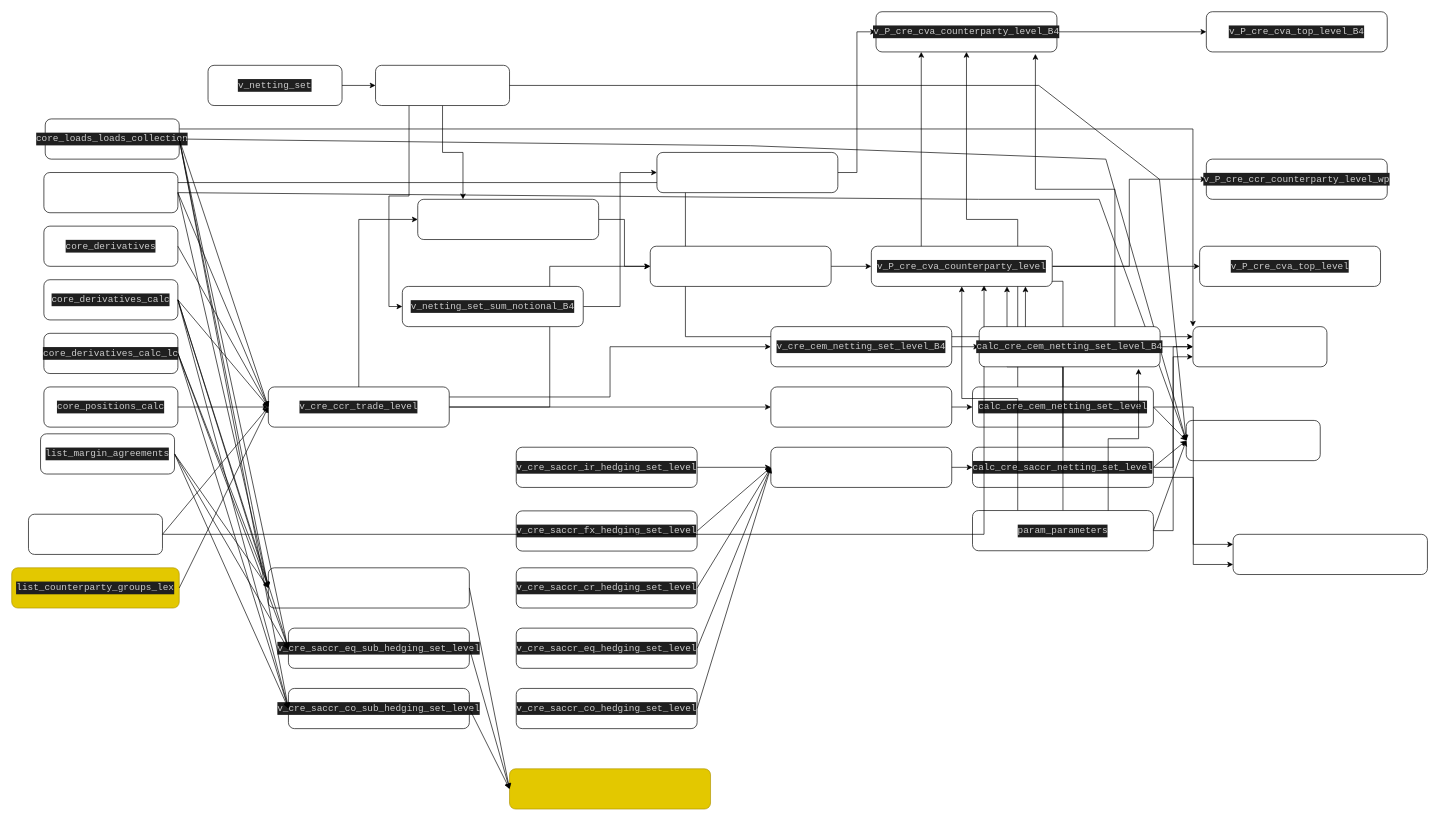
The diagram is 1443 pixels wide and 821 high, and some of its shapes have lost their labels. Each missing label, with the box of its shape:
calc_netting_sets: (375, 65, 510, 106)
core_positions: (43, 172, 178, 213)
list_counterparties: (28, 514, 162, 554)
v_cre_ccr_ead_distributed: (1186, 420, 1320, 461)
v_cre_ccr_ead_distributed_B4: (1192, 326, 1327, 367)
v_cre_cem_netting_set_level: (770, 386, 952, 427)
v_cre_cem_netting_set_level_B3_B4_wp: (1232, 534, 1427, 575)
v_cre_saccr_cr_sub_hedging_set_level: (268, 567, 469, 608)
v_cre_saccr_netting_set_level: (770, 447, 952, 487)
v_cre_saccr_subhedging_set_level: (509, 768, 711, 809)
v_netting_set_sum_notional: (417, 199, 599, 240)
v_P_cre_cva_netting_set_level: (650, 246, 831, 286)
v_P_cre_cva_netting_set_level_B4: (656, 152, 838, 193)
